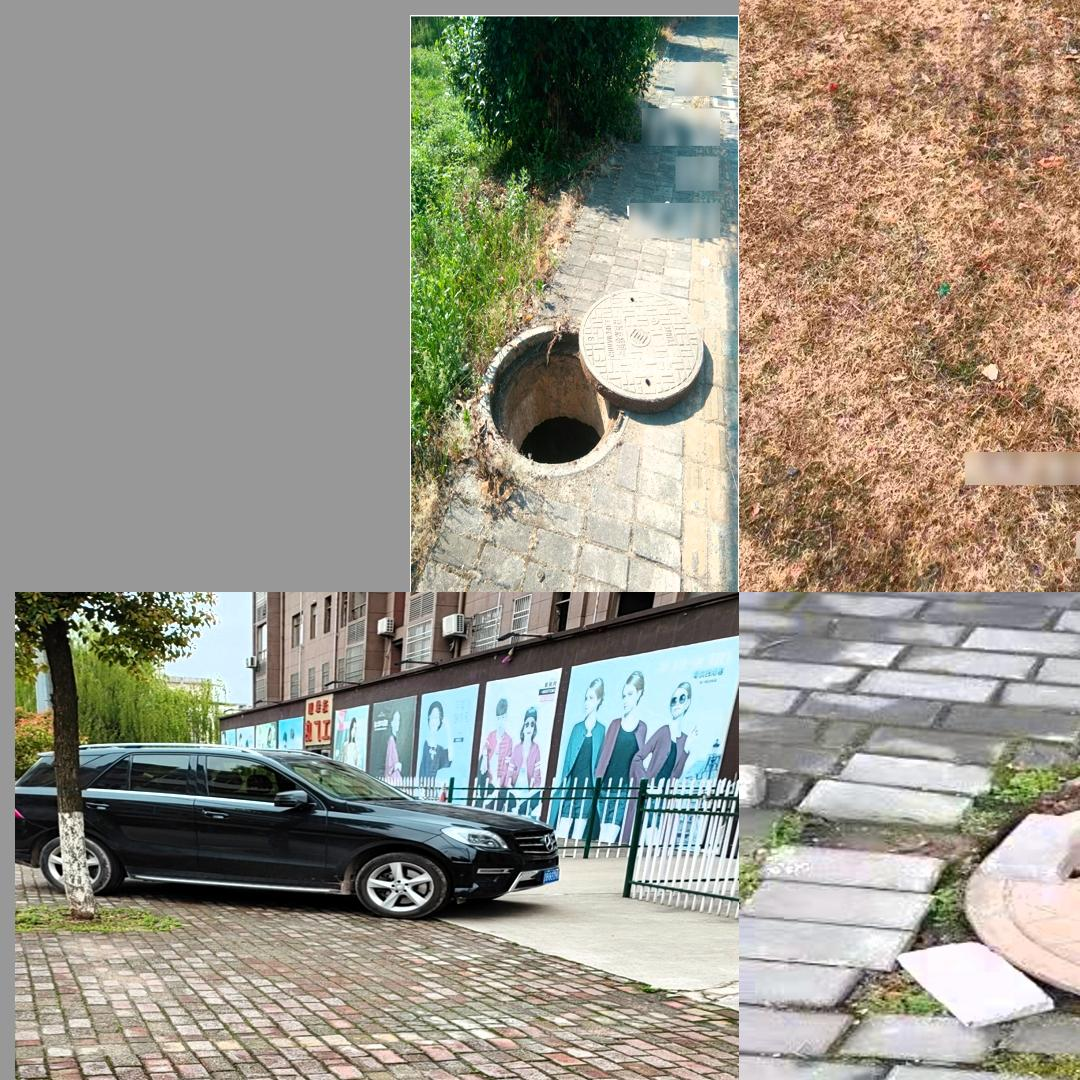uncovered: (482, 288, 703, 476), (961, 747, 1080, 1022)
